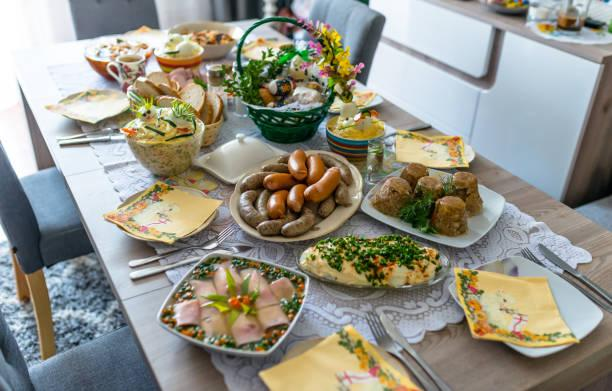Braised Crucian Carp: (447, 254, 600, 357), (158, 252, 305, 357), (229, 151, 360, 242), (360, 167, 500, 247), (298, 234, 446, 289), (111, 184, 216, 244)
